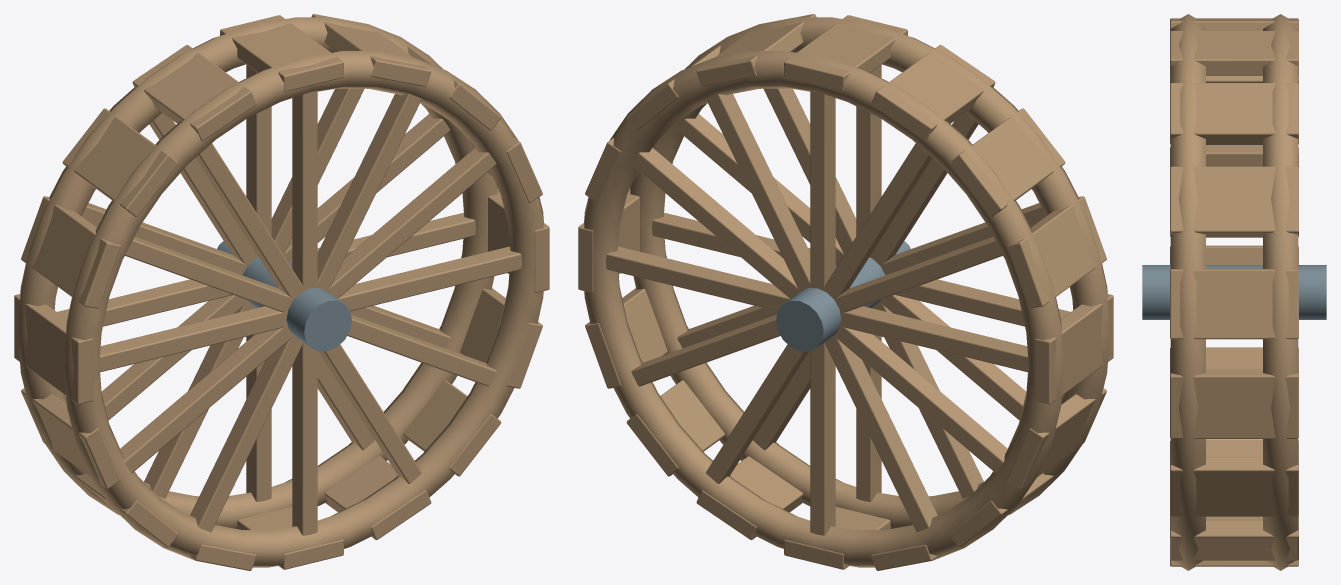
The model's file is waterwheel.glb.
3 renders of one model, left to right at view 1: azimuth 30°, elevation 25°; view 2: azimuth 150°, elevation 25°; view 3: azimuth 270°, elevation 25°, orthographic.
Parts seen in each view (by area): view 1: waterwheel; view 2: waterwheel; view 3: waterwheel.
Boxes of the visible parts, x1,y1,x2,y2 form: waterwheel: (14,14,549,570); waterwheel: (578,14,1113,570); waterwheel: (1142,14,1326,570).
Size of the model in its own units: 3.02 by 3.02 by 1.
